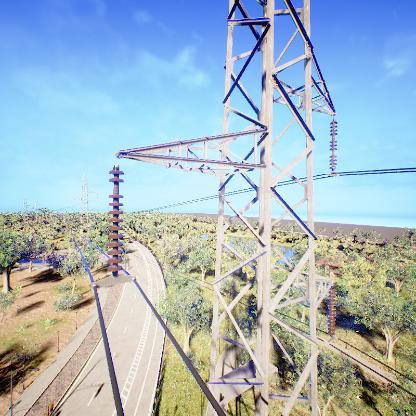insulator: (103, 165, 125, 276), (327, 119, 341, 172), (328, 286, 338, 343)
